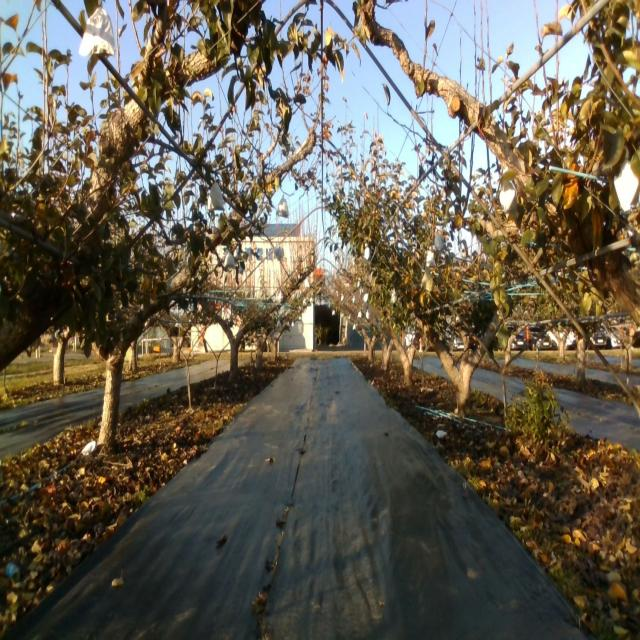pearbags: (80, 6, 114, 58), (612, 158, 640, 212), (499, 184, 516, 217), (207, 183, 225, 210), (276, 194, 289, 220)
